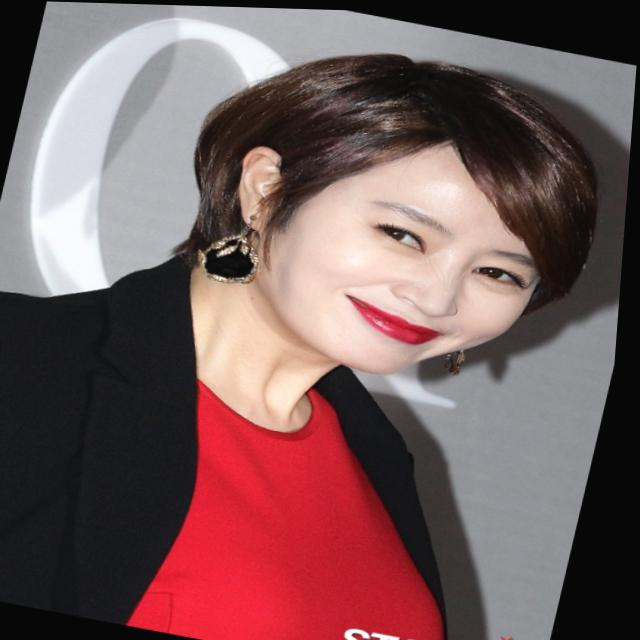face: (110, 3, 251, 90)
